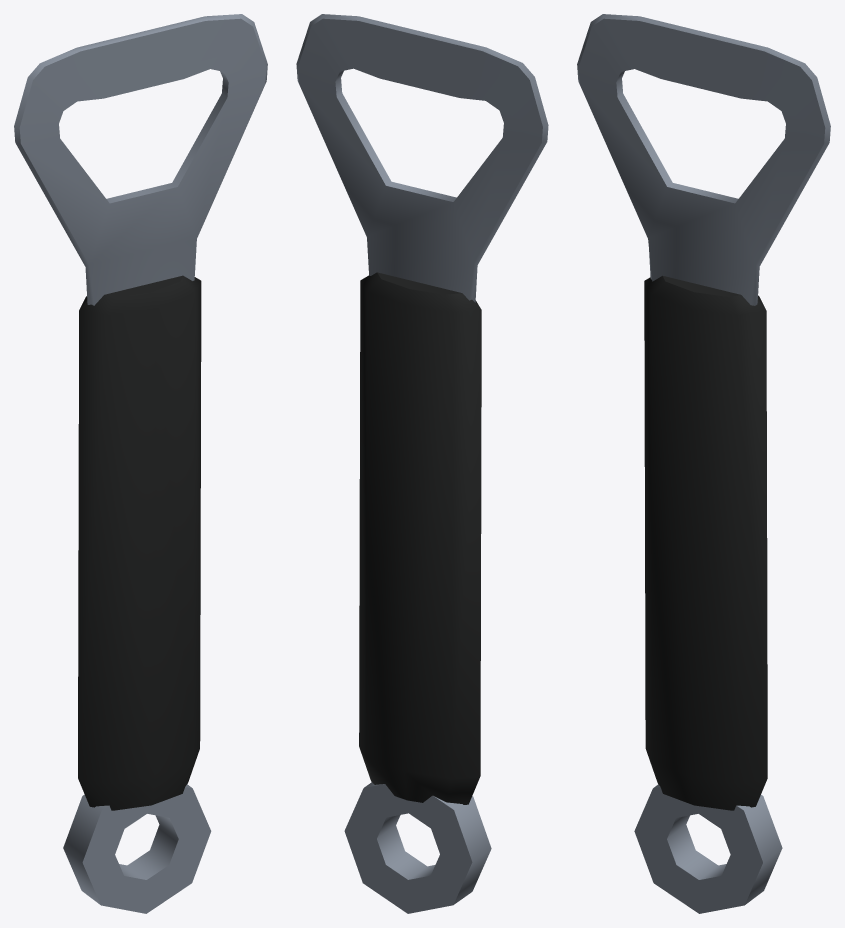
Rendered from cooking_assets_bottle_opener.glb.
The picture shows the model from 3 angles, left to right: view 1: azimuth 30°, elevation 25°; view 2: azimuth 150°, elevation 25°; view 3: azimuth 330°, elevation 25°; orthographic projection.
Parts seen in each view (by area): view 1: cutensils_bottle_opener_Cylinder.062; view 2: cutensils_bottle_opener_Cylinder.062; view 3: cutensils_bottle_opener_Cylinder.062.
Part boxes in pixels (<box>): cutensils_bottle_opener_Cylinder.062: <box>14,14,267,913</box>; cutensils_bottle_opener_Cylinder.062: <box>296,14,548,913</box>; cutensils_bottle_opener_Cylinder.062: <box>577,14,830,913</box>.
Size of the model in its own units: 1.31 by 4.34 by 0.2916.
Materials: 1 (1 with a texture image).
